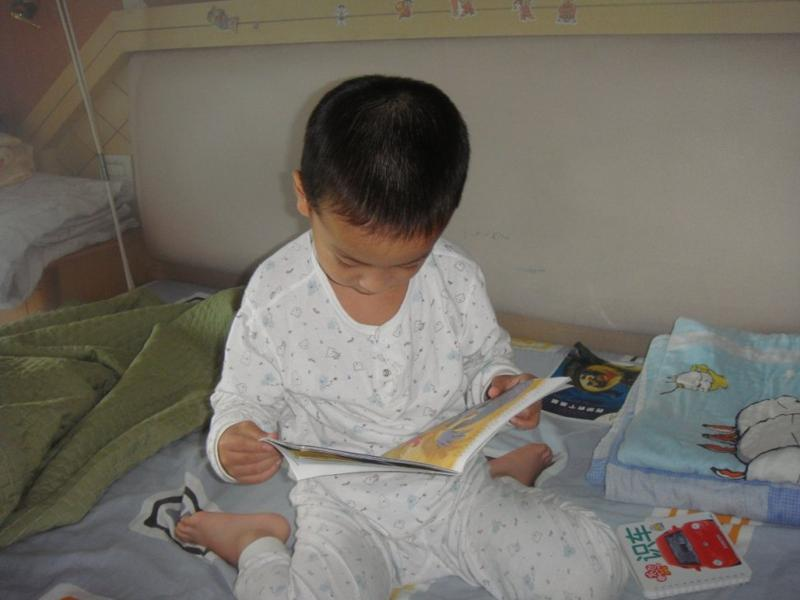person: (173, 73, 630, 599)
